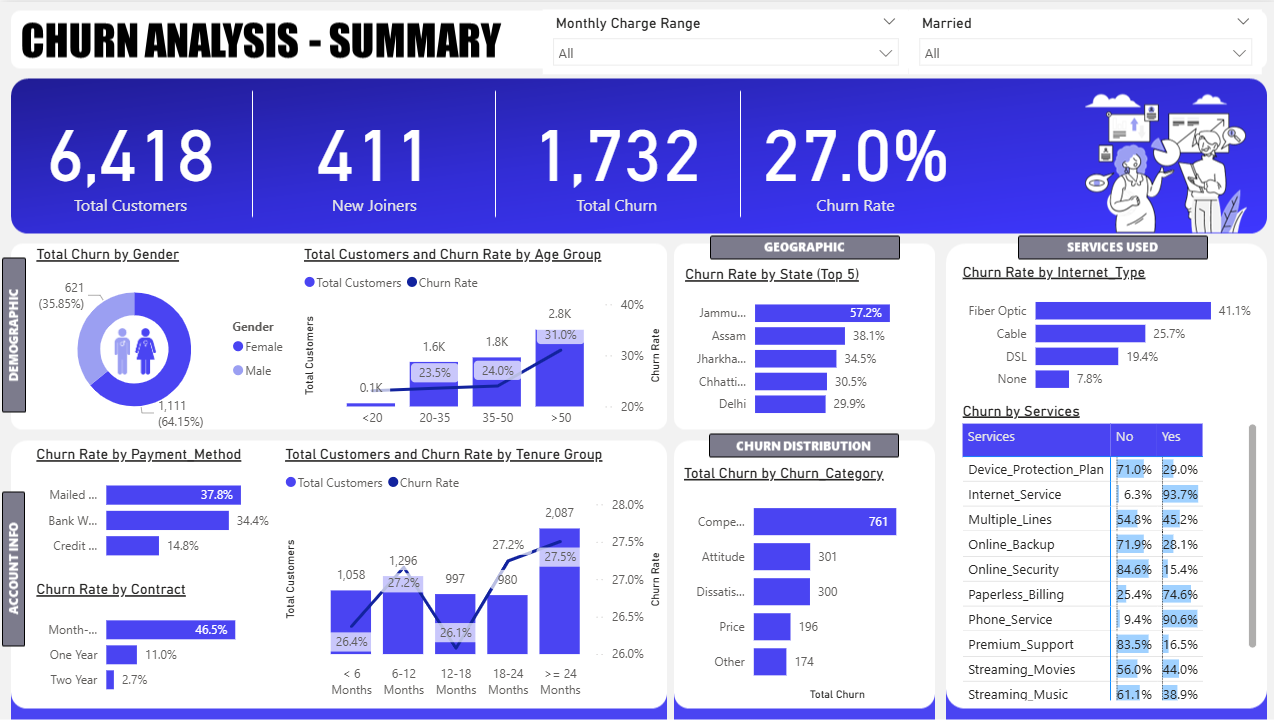

What the dashboard file says about the page in this screenshot:
{"tool":"powerbi","page":{"name":"Summary","canvas":[1280,720],"ordinal":0},"visuals":[{"type":"image","box":[97.3,313.2,77.4,69.9],"z":0},{"type":"card","fields":{"Values":["tbl_Measures.Total Customers"]},"box":[10,82.4,243.3,143.5],"z":1000},{"type":"card","fields":{"Values":["tbl_Measures.New Joiners"]},"box":[253.3,82.4,243.3,143.5],"z":2000},{"type":"card","fields":{"Values":["tbl_Measures.Total Churn"]},"box":[496.6,82.4,243.3,143.5],"z":3000},{"type":"card","fields":{"Values":["tbl_Measures.Churn Rate"]},"box":[740,82.4,233.3,143.5],"z":4000},{"type":"donutChart","fields":{"Category":["prod_Churn.Gender"],"Y":["tbl_Measures.Total Churn"]},"box":[32.4,243.3,267,190.9],"z":5000},{"type":"lineStackedColumnComboChart","fields":{"Category":["mapping_AgeGrp.Age Group"],"Y":["tbl_Measures.Total Customers"],"Y2":["tbl_Measures.Churn Rate"]},"box":[299.5,243.3,368.1,190.9],"z":6000},{"type":"clusteredBarChart","fields":{"Category":["prod_Churn.Payment_Method"],"Y":["tbl_Measures.Churn Rate"]},"box":[32.4,444.2,248.3,126],"z":7000},{"type":"clusteredBarChart","fields":{"Category":["prod_Churn.Contract"],"Y":["tbl_Measures.Churn Rate"]},"box":[32.4,579,248.3,124.8],"z":8000},{"type":"lineStackedColumnComboChart","fields":{"Category":["mapping_TenureGrp.Tenure Group"],"Y":["tbl_Measures.Total Customers"],"Y2":["tbl_Measures.Churn Rate"]},"box":[280.8,444.2,386.8,259.5],"z":9000},{"type":"clusteredBarChart","title":"Churn Rate by State (Top 5)","fields":{"Category":["prod_Churn.State"],"Y":["tbl_Measures.Churn Rate"]},"box":[681.3,263.3,248.3,162.2],"z":10000},{"type":"clusteredBarChart","fields":{"Category":["prod_Churn.Churn_Category"],"Y":["tbl_Measures.Total Churn"]},"box":[680.1,462.9,247.1,240.8],"z":11000},{"type":"clusteredBarChart","fields":{"Category":["prod_Churn.Internet_Type"],"Y":["tbl_Measures.Churn Rate"]},"box":[958.3,260.8,304.5,139.8],"z":12000},{"type":"pivotTable","title":"Churn by Services","fields":{"Rows":["prod_Services.Services"],"Columns":["prod_Services.Status"],"Values":["Sum(prod_Services.Churn Status)"]},"box":[958.3,400.5,304.5,303.2],"z":13000},{"type":"slicer","fields":{"Values":["prod_Churn.Monthly Charged Status"]},"box":[544,7.5,365.6,64.9],"z":14000},{"type":"slicer","fields":{"Values":["prod_Churn.Married"]},"box":[909.7,7.5,353.1,64.9],"z":15000}]}

Visuals, with their boxes in screenshot pixels (x1, y1, x2, y2), scaled from the page's 1280x720 canvas onto the 1274x721 screenshot:
image: (x1=97, y1=314, x2=174, y2=384)
card - tbl_Measures.Total Customers: (x1=10, y1=83, x2=252, y2=226)
card - tbl_Measures.New Joiners: (x1=252, y1=83, x2=494, y2=226)
card - tbl_Measures.Total Churn: (x1=494, y1=83, x2=736, y2=226)
card - tbl_Measures.Churn Rate: (x1=737, y1=83, x2=969, y2=226)
donutChart - prod_Churn.Gender x tbl_Measures.Total Churn: (x1=32, y1=244, x2=298, y2=435)
lineStackedColumnComboChart - mapping_AgeGrp.Age Group x tbl_Measures.Total Customers: (x1=298, y1=244, x2=664, y2=435)
clusteredBarChart - prod_Churn.Payment_Method x tbl_Measures.Churn Rate: (x1=32, y1=445, x2=279, y2=571)
clusteredBarChart - prod_Churn.Contract x tbl_Measures.Churn Rate: (x1=32, y1=580, x2=279, y2=705)
lineStackedColumnComboChart - mapping_TenureGrp.Tenure Group x tbl_Measures.Total Customers: (x1=279, y1=445, x2=664, y2=705)
"Churn Rate by State (Top 5)" clusteredBarChart: (x1=678, y1=264, x2=925, y2=426)
clusteredBarChart - prod_Churn.Churn_Category x tbl_Measures.Total Churn: (x1=677, y1=464, x2=923, y2=705)
clusteredBarChart - prod_Churn.Internet_Type x tbl_Measures.Churn Rate: (x1=954, y1=261, x2=1257, y2=401)
"Churn by Services" pivotTable: (x1=954, y1=401, x2=1257, y2=705)
slicer - prod_Churn.Monthly Charged Status: (x1=541, y1=8, x2=905, y2=73)
slicer - prod_Churn.Married: (x1=905, y1=8, x2=1257, y2=73)
